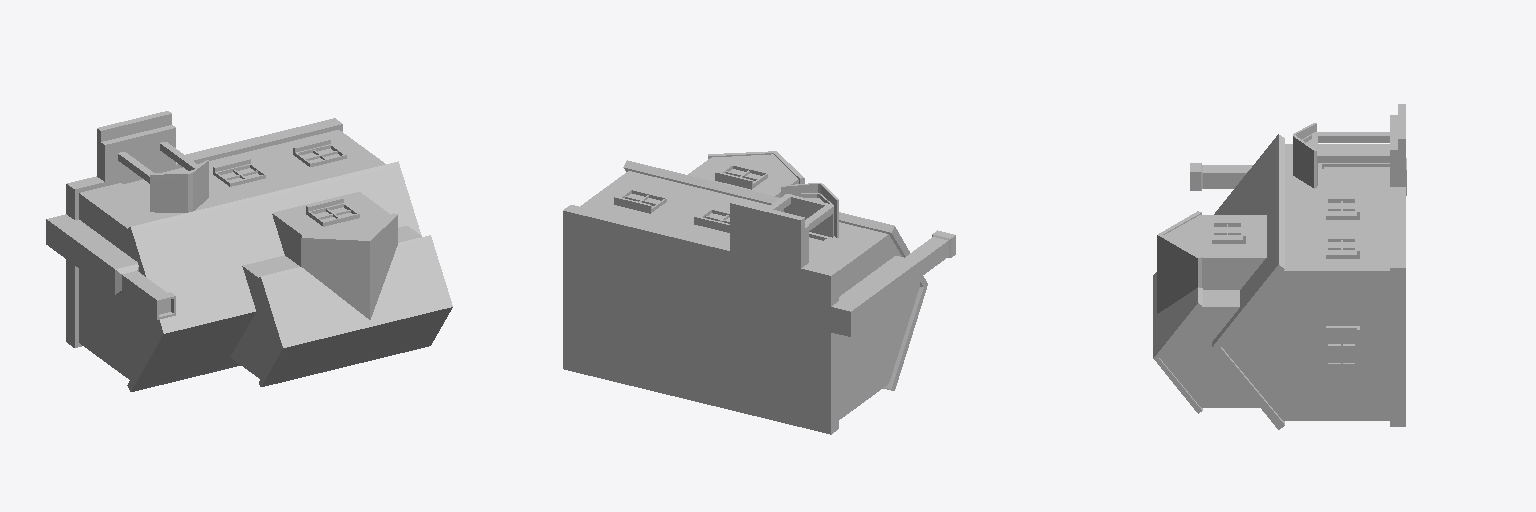
File: building_small.obj
The picture shows the model from 3 angles: view 1: azimuth 30°, elevation 25°; view 2: azimuth 150°, elevation 25°; view 3: azimuth 270°, elevation 25°; orthographic projection.
Parts seen in each view (by area): view 1: House_Complete.001_House_Complete_0; view 2: House_Complete.001_House_Complete_0; view 3: House_Complete.001_House_Complete_0.
Boxes of the visible parts, <box> form: House_Complete.001_House_Complete_0: <box>46,111,452,391</box>; House_Complete.001_House_Complete_0: <box>563,151,955,434</box>; House_Complete.001_House_Complete_0: <box>1153,104,1406,429</box>.
Size of the model in its own units: 2391 by 1643 by 1791.